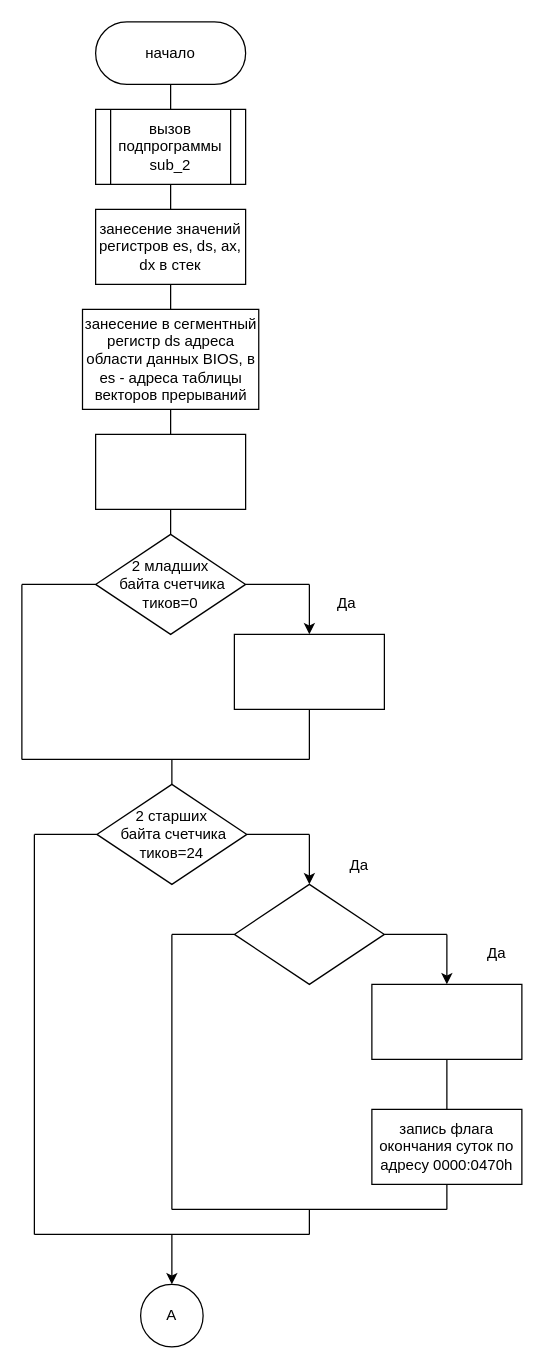
The diagram is 556 pixels wide and 1369 high, and some of its shapes have lost their labels. The shapes that lost their labels are listed below. From the top down, each one's centre as x and y in pixels, then its label:
At point (170, 471): "инкремент двух младших байтов счетчика тиков".
At point (308, 671): "инкремент двух старших байтов счетчика тиков".
At point (308, 933): "2 младших байта счетчика тиков=176".
At point (446, 1021): "обнуление счетчика тиков".
